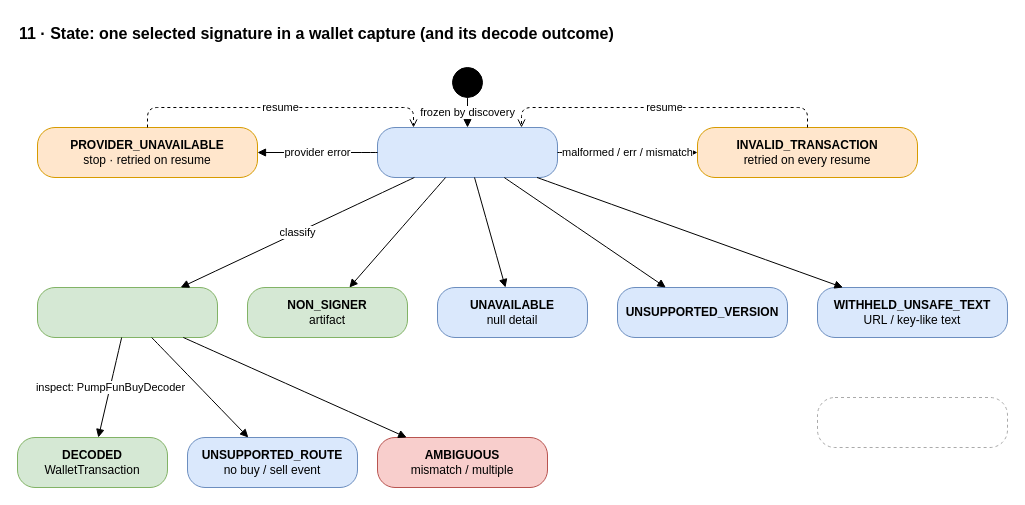
The diagram is 1025 pixels wide and 505 high, and some of its shapes have lost their labels. The box of each missing label's shape, as (x1, y1, x2, y2) in pixels:
FAILED legacy v1; unreachable now: (816, 396, 1008, 448)
PENDING: (376, 126, 558, 178)
UNCLASSIFIED artifact · wallet signed: (36, 286, 218, 338)
